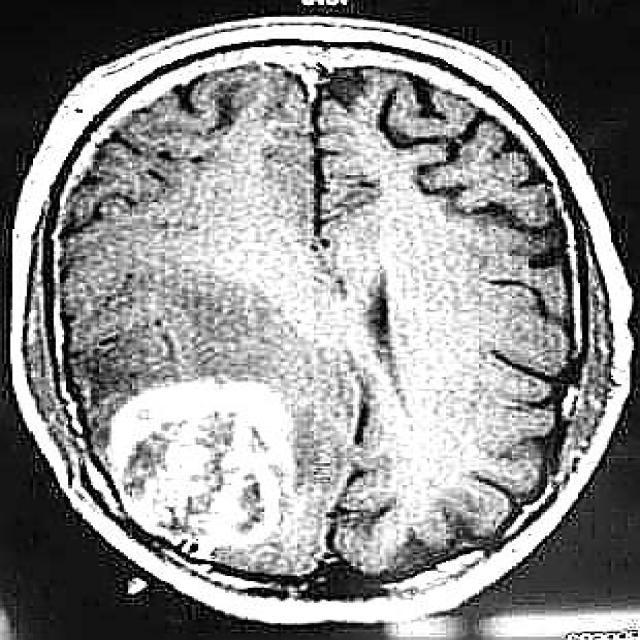tumor: (105, 379, 295, 574)
